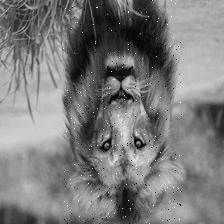Lion: (63, 0, 183, 224)
